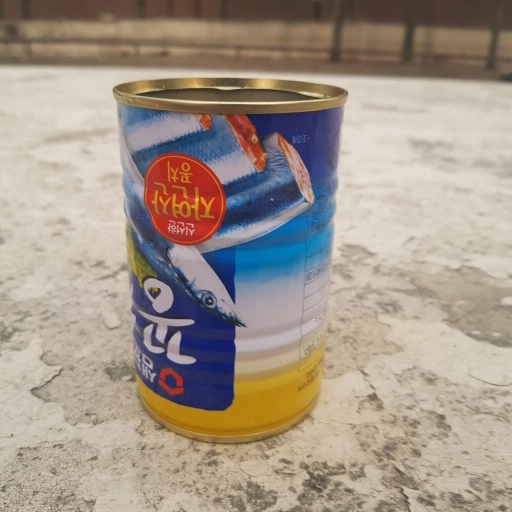Metal_1: (109, 72, 351, 448)
